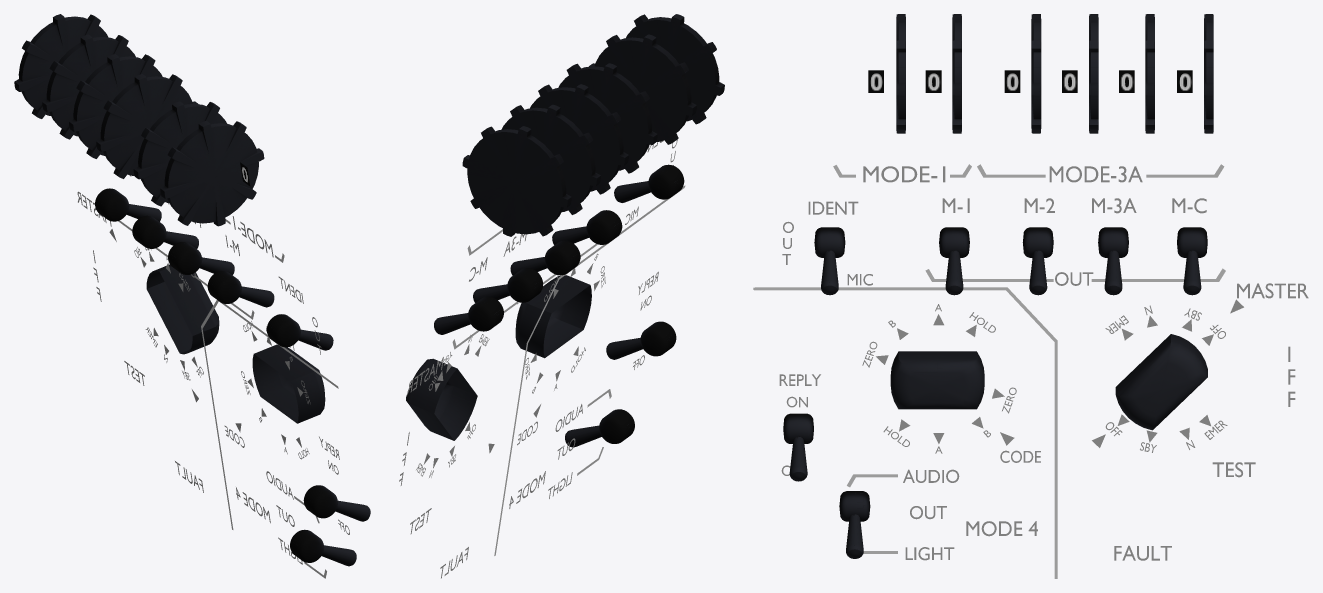
The model's file is transpondeur.fbx.
The picture shows the model from 3 angles, left to right: view 1: azimuth 30°, elevation 25°; view 2: azimuth 150°, elevation 25°; view 3: azimuth 270°, elevation 25°; orthographic projection. The views are drawn at different scales.
Visible parts, largest first — view 1: transpondeur.molete6, transpondeur.molete4, transpondeur.button2.2, transpondeur.button1.2, transpondeur.molete1, transpondeur.molete3, transpondeur.molete2, transpondeur.molete5, transpondeur.texte, transpondeur.switch2, transpondeur.switch6, transpondeur.switch7 (+7 smaller); view 2: transpondeur.molete1, transpondeur.molete5, transpondeur.button1.2, transpondeur.molete2, transpondeur.molete4, transpondeur.molete3, transpondeur.molete6, transpondeur.button2.2, transpondeur.texte, transpondeur.switch6, transpondeur.switch1, transpondeur.switch5 (+7 smaller); view 3: transpondeur.texte, transpondeur.button1.2, transpondeur.button2.2, transpondeur.lignes, transpondeur.switch6, transpondeur.switch4, transpondeur.switch2, transpondeur.switch1, transpondeur.switch3, transpondeur.switch5, transpondeur.switch7, transpondeur.molete4 (+7 smaller).
Boxes of the visible parts, bbox=[...] form: transpondeur.molete6: bbox=[160, 121, 264, 226]; transpondeur.molete4: bbox=[96, 74, 198, 178]; transpondeur.button2.2: bbox=[146, 264, 219, 354]; transpondeur.button1.2: bbox=[252, 344, 325, 423]; transpondeur.molete1: bbox=[14, 14, 108, 118]; transpondeur.molete3: bbox=[69, 54, 162, 158]; transpondeur.molete2: bbox=[42, 34, 135, 139]; transpondeur.molete5: bbox=[133, 101, 227, 206]; transpondeur.texte: bbox=[77, 175, 349, 564]; transpondeur.switch2: bbox=[207, 271, 274, 307]; transpondeur.switch6: bbox=[303, 485, 370, 521]; transpondeur.switch7: bbox=[290, 529, 356, 566]; transpondeur.molete1: bbox=[462, 126, 571, 236]; transpondeur.molete5: bbox=[589, 34, 696, 144]; transpondeur.button1.2: bbox=[515, 275, 591, 358]; transpondeur.molete2: bbox=[501, 104, 600, 214]; transpondeur.molete4: bbox=[558, 63, 657, 173]; transpondeur.molete3: bbox=[530, 84, 628, 194]; transpondeur.molete6: bbox=[626, 14, 724, 124]; transpondeur.button2.2: bbox=[406, 358, 477, 440]; transpondeur.texte: bbox=[399, 139, 677, 578]; transpondeur.switch6: bbox=[606, 321, 676, 359]; transpondeur.switch1: bbox=[614, 164, 684, 202]; transpondeur.switch5: bbox=[434, 296, 503, 334]; transpondeur.texte: bbox=[779, 166, 1308, 560]; transpondeur.button1.2: bbox=[890, 351, 984, 409]; transpondeur.button2.2: bbox=[1115, 334, 1207, 430]; transpondeur.lignes: bbox=[753, 164, 1225, 578]; transpondeur.switch6: bbox=[783, 413, 813, 481]; transpondeur.switch4: bbox=[1098, 227, 1128, 295]; transpondeur.switch2: bbox=[939, 227, 969, 295]; transpondeur.switch1: bbox=[814, 227, 845, 295]; transpondeur.switch3: bbox=[1022, 227, 1053, 295]; transpondeur.switch5: bbox=[1177, 227, 1207, 295]; transpondeur.switch7: bbox=[839, 491, 870, 558]; transpondeur.molete4: bbox=[1031, 14, 1041, 133].
Bounding box in the file's own units: 5.33 × 14.24 × 14.48.
